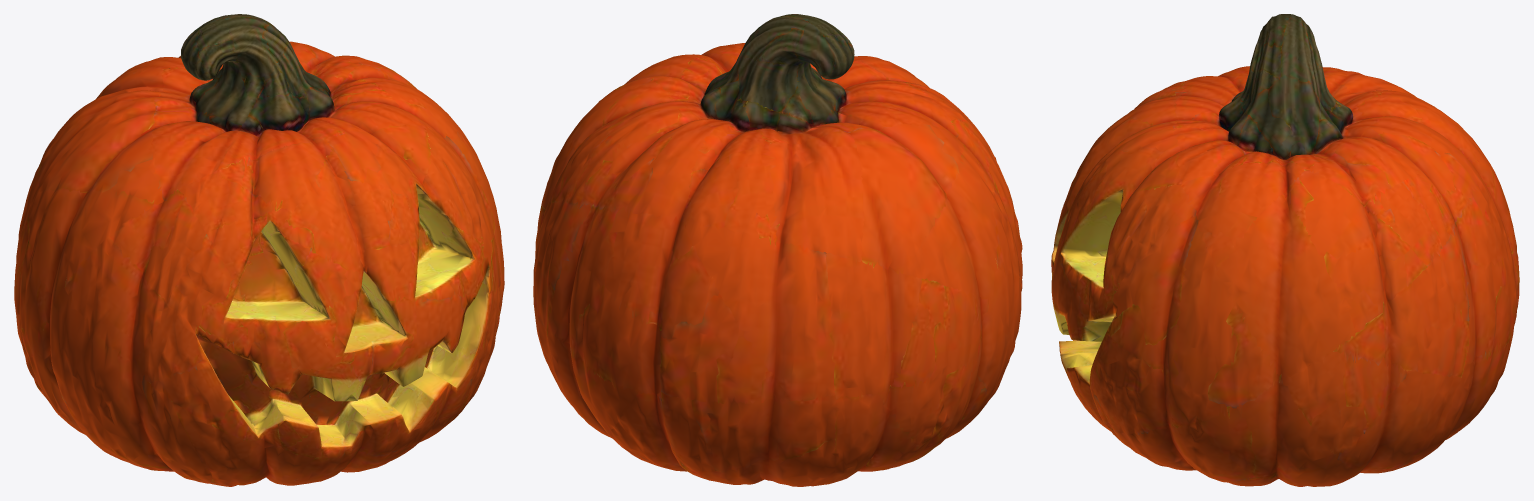
The model's file is pumpkin.glb.
The picture shows the model from 3 angles, left to right: view 1: azimuth 30°, elevation 25°; view 2: azimuth 150°, elevation 25°; view 3: azimuth 270°, elevation 25°; orthographic projection. The views are drawn at different scales.
Bounding box in the file's own units: 0.1273 × 0.12 × 0.1271.
Materials: 1 (1 with a texture image).
